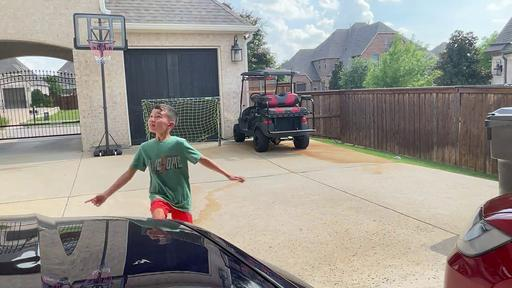human: (84, 103, 244, 223)
rim: (86, 38, 116, 61)
